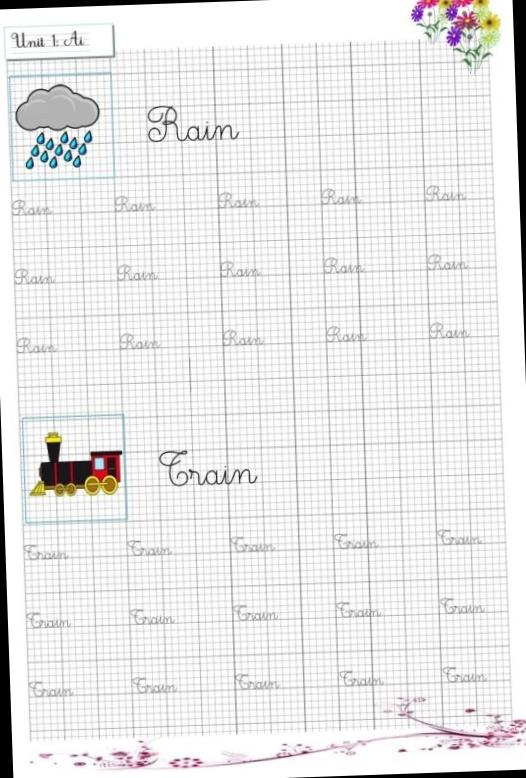text: (154, 442, 260, 491), (142, 100, 241, 147), (9, 26, 90, 54), (19, 539, 71, 565), (434, 522, 485, 548), (424, 316, 474, 342), (125, 535, 175, 560), (317, 182, 364, 208), (227, 530, 274, 556), (438, 591, 488, 615), (130, 672, 180, 696), (320, 252, 366, 278), (328, 529, 380, 552), (27, 675, 76, 699), (233, 668, 282, 692), (7, 194, 53, 219), (422, 180, 468, 205), (114, 260, 161, 284), (128, 603, 175, 627), (13, 331, 58, 356), (215, 188, 261, 212), (426, 249, 470, 274), (220, 324, 264, 349), (111, 191, 158, 214), (217, 256, 264, 279), (442, 662, 489, 685), (117, 328, 162, 352), (322, 320, 366, 344), (25, 608, 73, 630), (334, 598, 382, 620), (11, 264, 56, 287), (230, 600, 276, 622), (337, 666, 383, 688)
